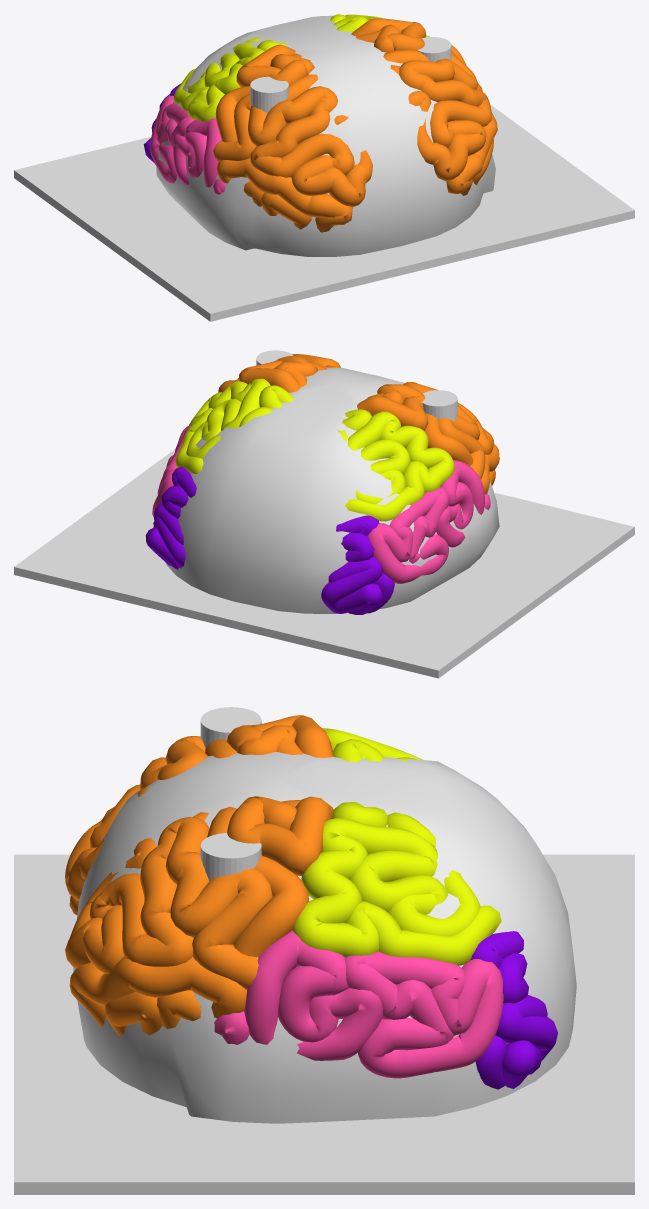
The model's file is Cerebrum.fbx.
The picture shows the model from 3 angles, top to bottom: view 1: azimuth 30°, elevation 25°; view 2: azimuth 150°, elevation 25°; view 3: azimuth 270°, elevation 25°; orthographic projection. The views are drawn at different scales.
Parts seen in each view (by area): view 1: Floor, Sphere.001, L Frontal, R Frontal, L Temporal, L Parietal, Pillar.001, Pillar.002, R Parietal; view 2: Floor, Sphere.001, L Temporal, L Parietal, L Frontal, R Parietal, L Occipital, R Occipital, R Frontal, Pillar.001, R Temporal; view 3: Floor, Sphere.001, R Frontal, R Temporal, R Parietal, L Frontal, R Occipital, Pillar.002, L Parietal, Pillar.001.
Part boxes in pixels (box(x1,y1,x2,y2)): Floor: box(14, 104, 634, 321); Sphere.001: box(156, 15, 495, 256); L Frontal: box(213, 44, 372, 232); R Frontal: box(351, 18, 497, 195); L Temporal: box(150, 95, 225, 194); L Parietal: box(173, 37, 286, 121); Pillar.001: box(250, 76, 288, 113); Pillar.002: box(417, 37, 451, 61); R Parietal: box(330, 14, 429, 37); Floor: box(14, 449, 634, 678); Sphere.001: box(166, 367, 499, 613); L Temporal: box(367, 460, 490, 583); L Parietal: box(338, 409, 454, 521); L Frontal: box(357, 382, 499, 494); R Parietal: box(175, 378, 293, 473); L Occipital: box(321, 515, 394, 614); R Occipital: box(145, 466, 196, 569); R Frontal: box(218, 354, 341, 392); Pillar.001: box(422, 390, 457, 421); R Temporal: box(152, 424, 189, 516); Floor: box(14, 854, 634, 1194); Sphere.001: box(73, 751, 576, 1123); R Frontal: box(65, 796, 333, 1035); R Temporal: box(214, 930, 503, 1078); R Parietal: box(291, 802, 501, 965); L Frontal: box(65, 715, 332, 915); R Occipital: box(470, 931, 557, 1089); Pillar.002: box(200, 833, 261, 880); L Parietal: box(322, 728, 422, 762); Pillar.001: box(200, 707, 261, 748).
Bounding box in the file's own units: 122438 × 50319 × 98070.
